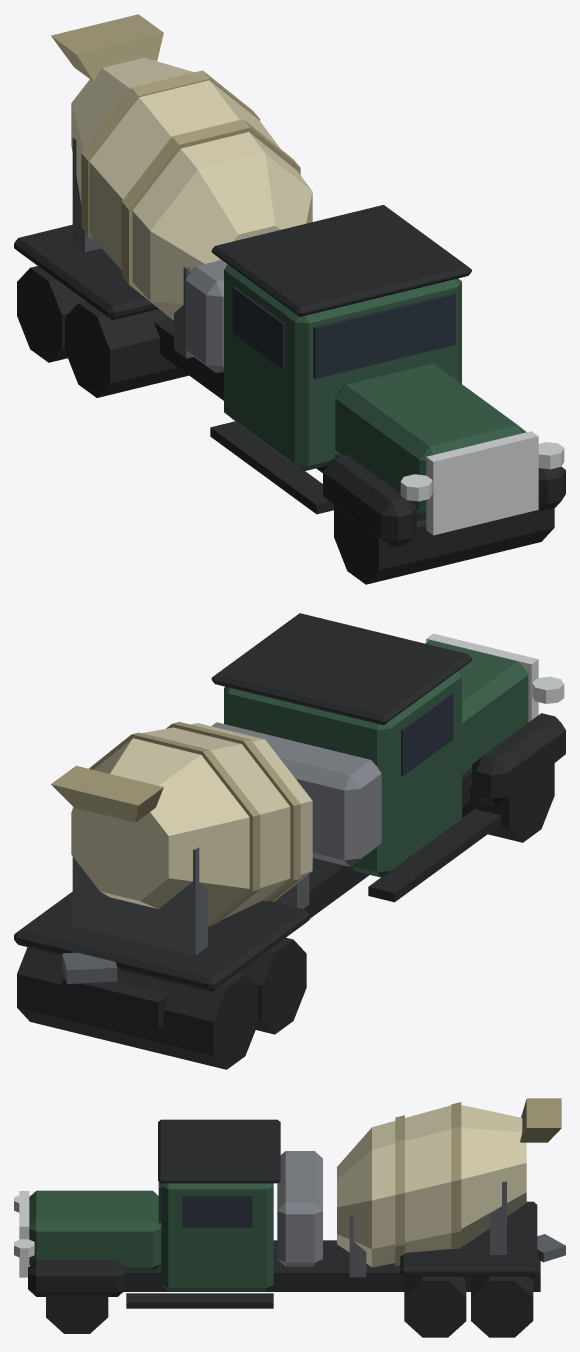
Rendered from con_mixer.glb.
3 renders of one model, top to bottom at view 1: azimuth 30°, elevation 25°; view 2: azimuth 150°, elevation 25°; view 3: azimuth 270°, elevation 25°, orthographic. The views are drawn at different scales.
Visible parts, largest first — view 1: con_mixer; view 2: con_mixer; view 3: con_mixer.
Part boxes in pixels (box(x1,y1,x2,y2)): con_mixer: box(14, 14, 565, 584); con_mixer: box(14, 613, 565, 1069); con_mixer: box(14, 1098, 565, 1337).
Size of the model in its own units: 2.3 by 3 by 7.86.
